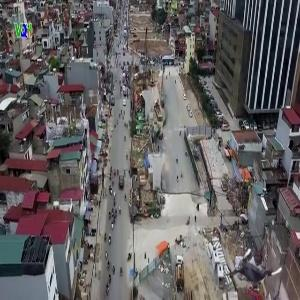drone: (230, 247, 281, 298)
